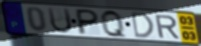0: (25, 6, 49, 34)
D: (130, 11, 155, 39)
P: (76, 8, 101, 36)
Q: (99, 9, 129, 40)
R: (153, 15, 181, 40)
U: (46, 7, 74, 35)
